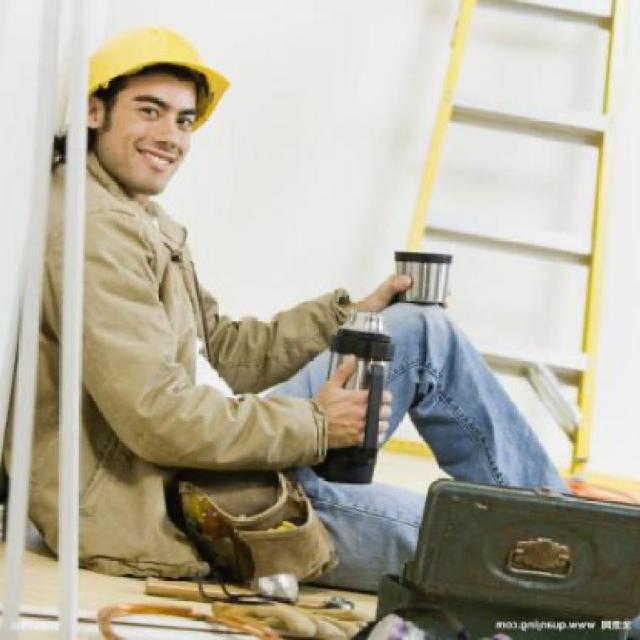helmet: (63, 5, 235, 206)
